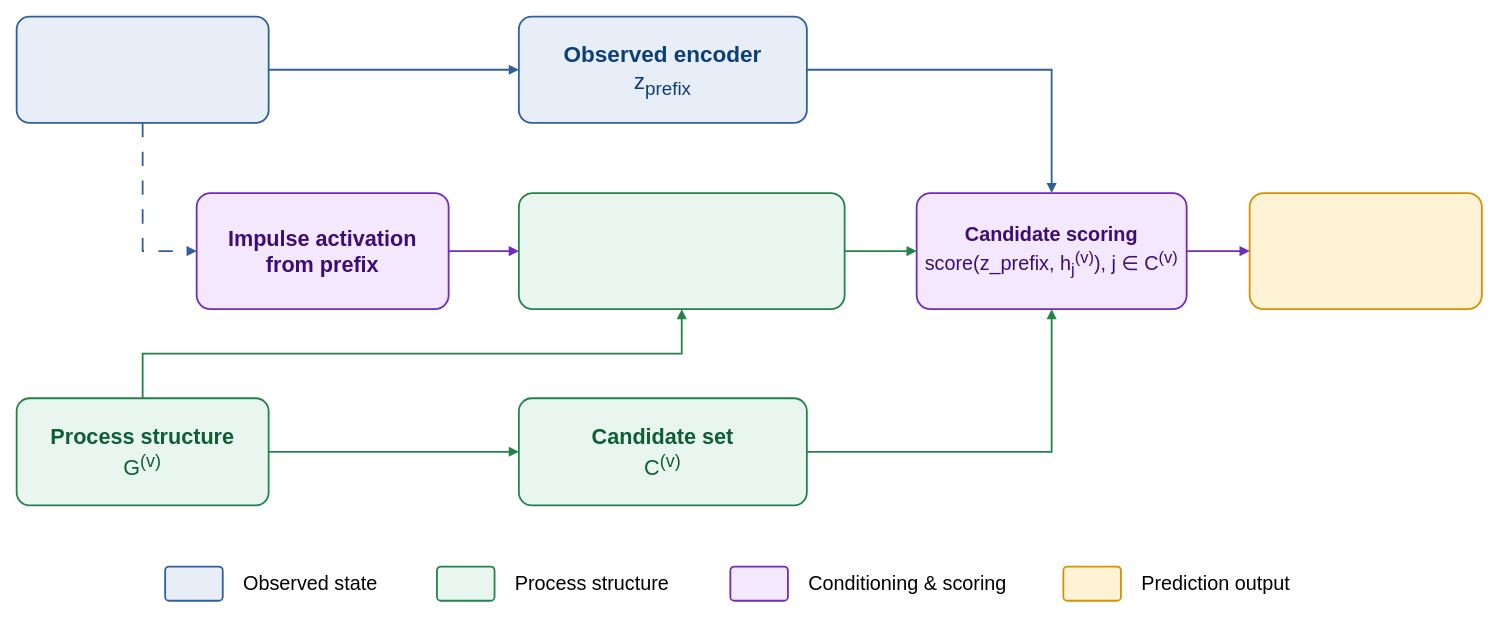
Some shapes in this 1498 by 619 pixel diagram are drawn without their labels. Each missing label, with the centre of its shape:
Observed prefix x t: the point at 142,69
Ranked next activities Top-K over C (v): the point at 1365,251
Structural encoder candidate embeddings h j (v): the point at 681,251
